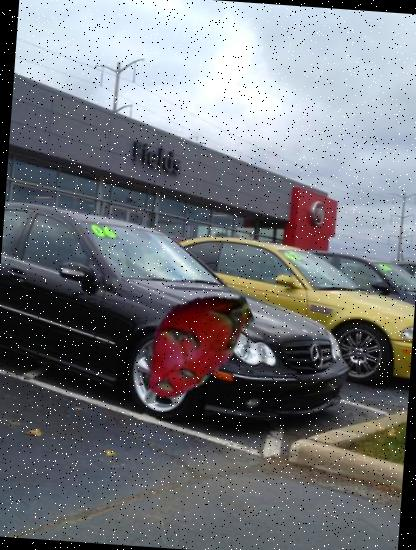Pitahaya: (130, 276, 262, 408)
